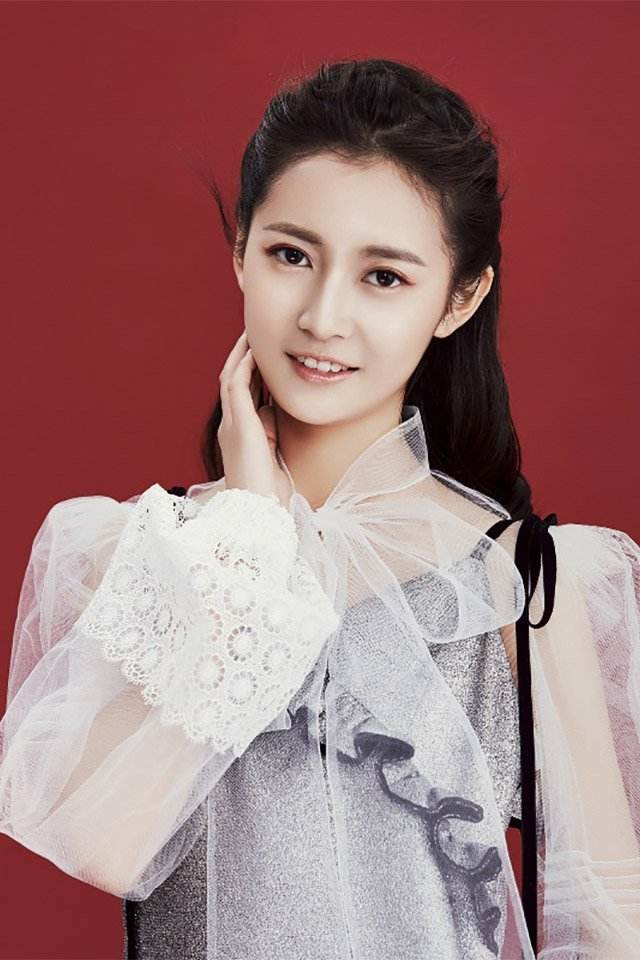person: (153, 59, 571, 744)
